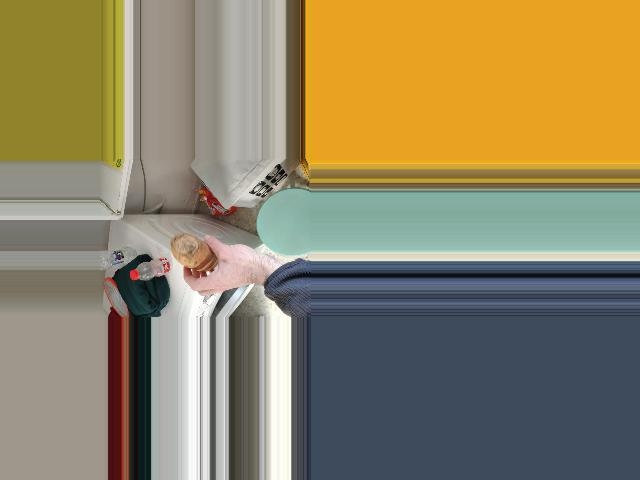sweet_potato: (170, 233, 219, 274)
